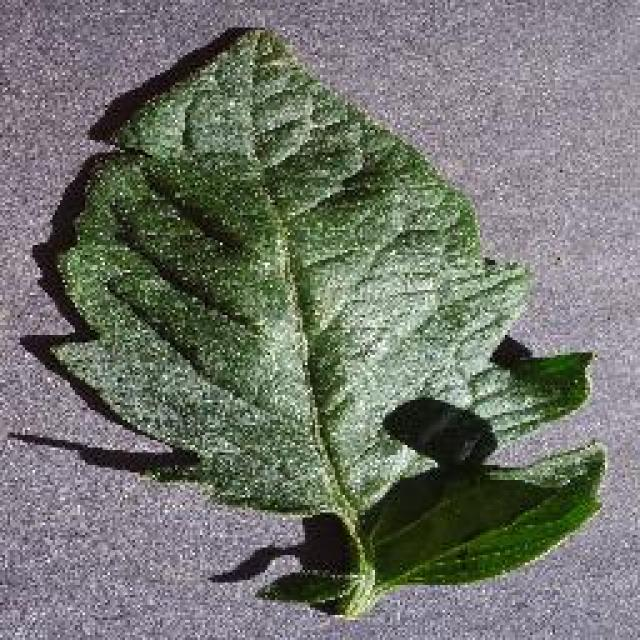healthy: (44, 35, 605, 617)
